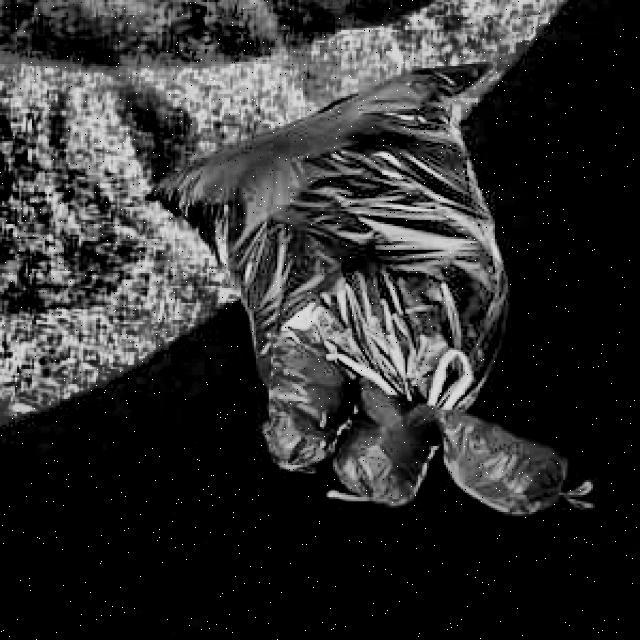Trashbag: (437, 402, 569, 517), (331, 378, 445, 507), (254, 333, 350, 468)
